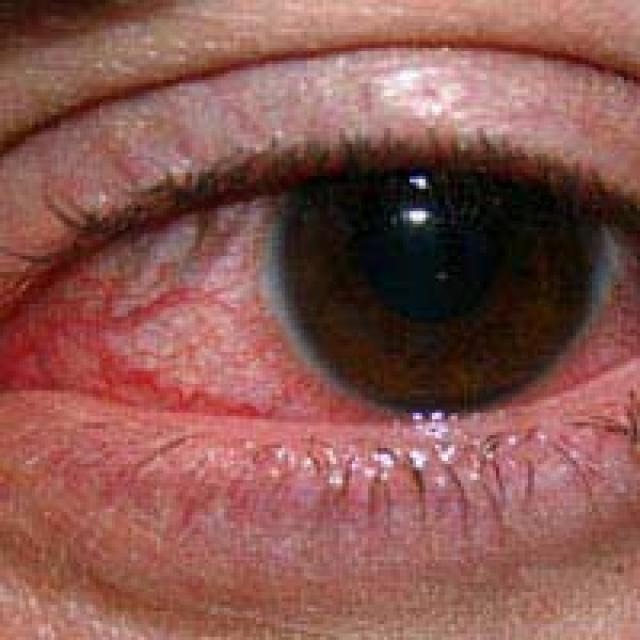Keratitis: (0, 106, 608, 522)
